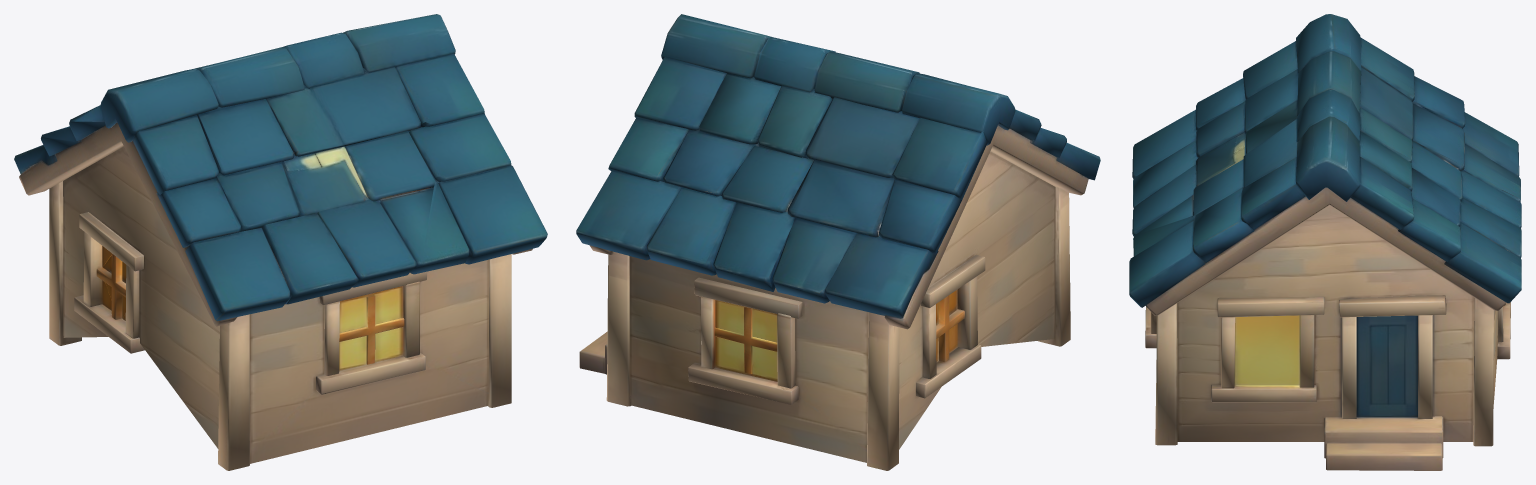
The picture shows the model from 3 angles, left to right: view 1: azimuth 30°, elevation 25°; view 2: azimuth 150°, elevation 25°; view 3: azimuth 270°, elevation 25°; orthographic projection. The views are drawn at different scales.
Parts seen in each view (by area): view 1: tripo_node_70f36040-ad79-4bfb-a78c-09bcd0fd79c7; view 2: tripo_node_70f36040-ad79-4bfb-a78c-09bcd0fd79c7; view 3: tripo_node_70f36040-ad79-4bfb-a78c-09bcd0fd79c7.
Boxes of the visible parts, bbox=[...] form: tripo_node_70f36040-ad79-4bfb-a78c-09bcd0fd79c7: bbox=[14, 14, 547, 470]; tripo_node_70f36040-ad79-4bfb-a78c-09bcd0fd79c7: bbox=[576, 14, 1100, 470]; tripo_node_70f36040-ad79-4bfb-a78c-09bcd0fd79c7: bbox=[1129, 14, 1521, 470].
Size of the model in its own units: 0.9941 by 0.834 by 0.998.
1 material, 1 textured.
